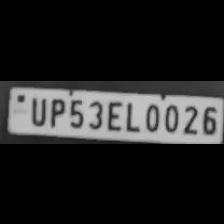0: (140, 100, 162, 132), (160, 100, 180, 132)
2: (178, 101, 198, 135)
3: (85, 96, 103, 130)
5: (65, 96, 85, 128)
6: (198, 102, 218, 134)
E: (104, 97, 122, 130)
L: (122, 98, 140, 130)
P: (46, 96, 64, 127)
U: (26, 94, 46, 125)
